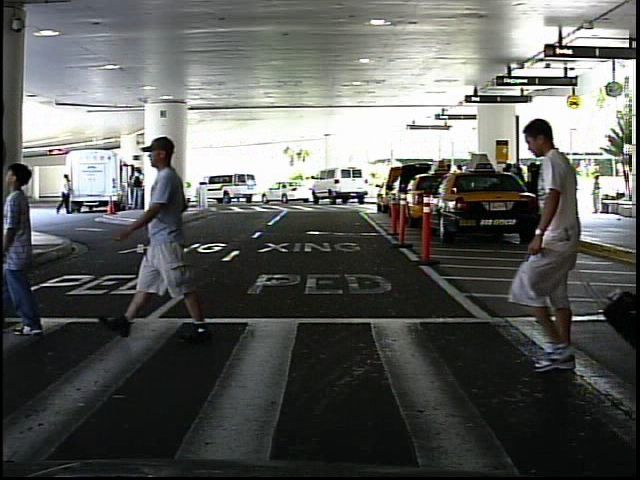person: (483, 113, 606, 380), (132, 130, 214, 342), (55, 171, 77, 221), (588, 172, 607, 218)
